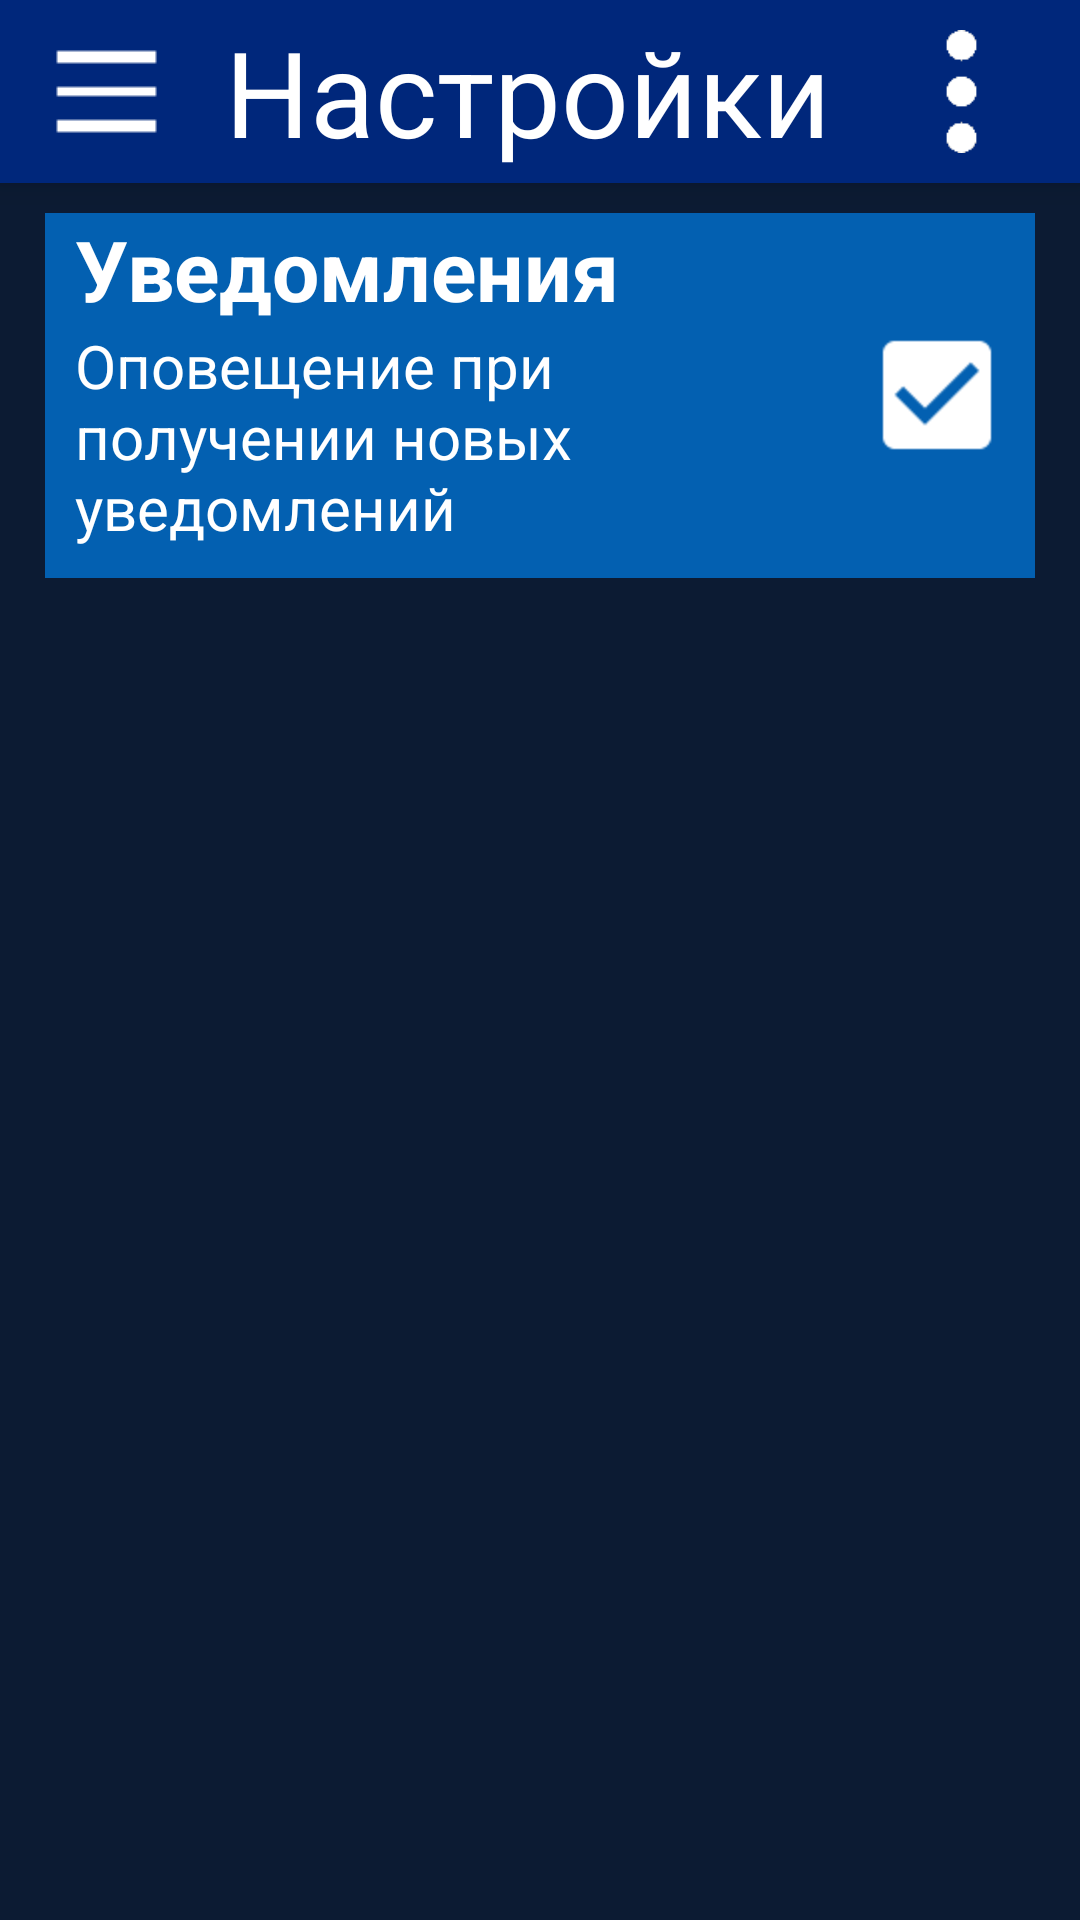

Screen size 1080px x 1920px. Icon name, then its box in pixels as region(x1, y1, x2, y2):
leftmenuicon: region(56, 50, 157, 133)
